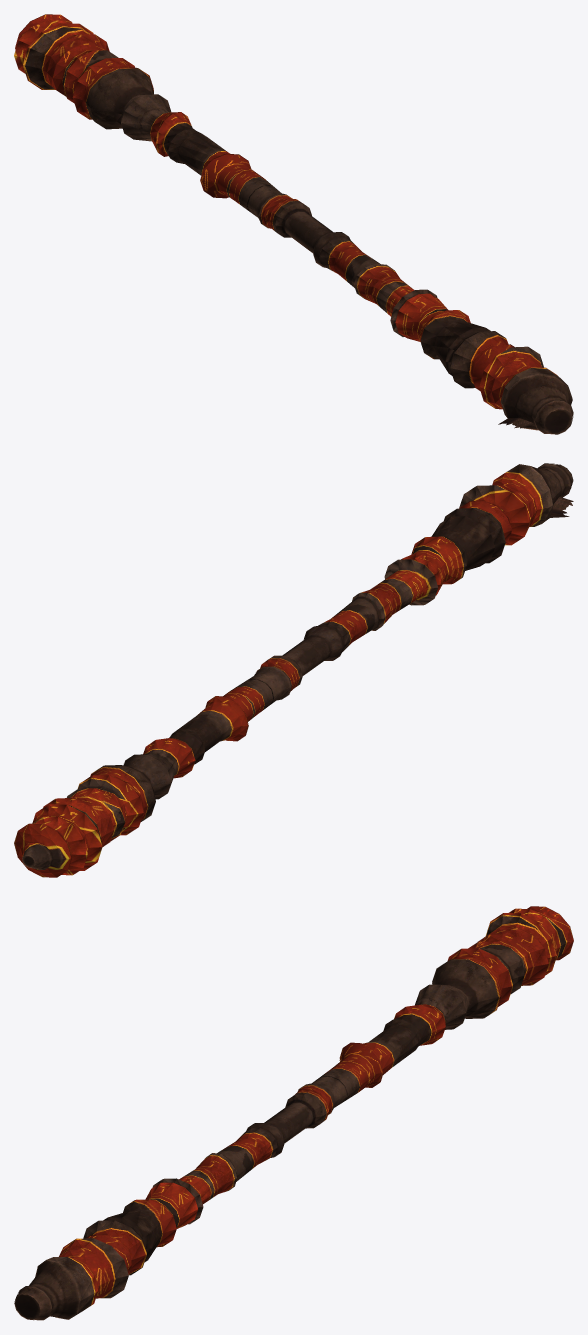
File: jia_staff.fbx
The picture shows the model from 3 angles, top to bottom: view 1: azimuth 30°, elevation 25°; view 2: azimuth 150°, elevation 25°; view 3: azimuth 330°, elevation 25°; orthographic projection.
Parts seen in each view (by area): view 1: ANSWER ME; view 2: ANSWER ME; view 3: ANSWER ME.
Part boxes in pixels (x1,y1,x2,y2): ANSWER ME: (14, 14, 573, 434); ANSWER ME: (14, 463, 573, 877); ANSWER ME: (14, 906, 573, 1320).
Bounding box in the file's own units: 21.31 × 16.88 × 245.
